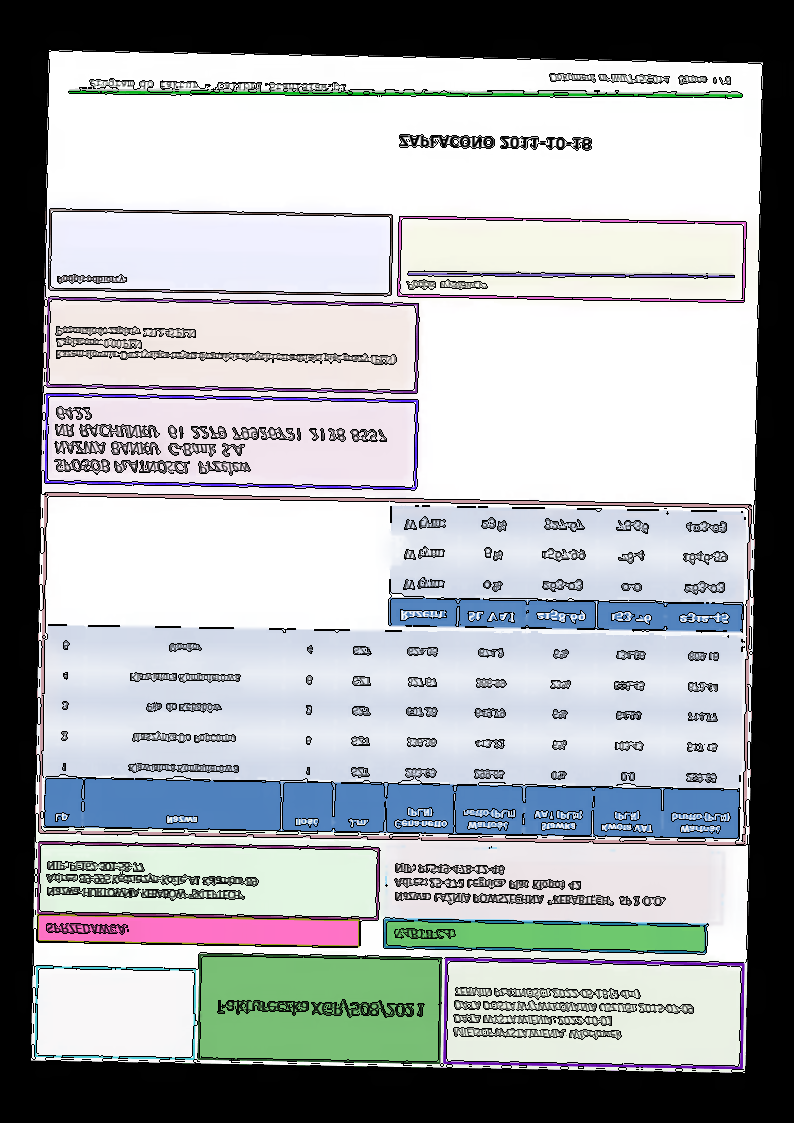Table: (41, 624, 742, 842), (386, 503, 744, 635)
TextBox: (51, 399, 393, 483), (50, 319, 402, 368), (448, 981, 697, 1045), (391, 857, 671, 912), (41, 856, 263, 904), (211, 993, 425, 1023), (86, 75, 350, 98), (392, 129, 596, 158), (545, 69, 735, 92), (403, 272, 488, 297), (40, 918, 131, 939), (51, 269, 129, 289), (389, 925, 455, 945)
